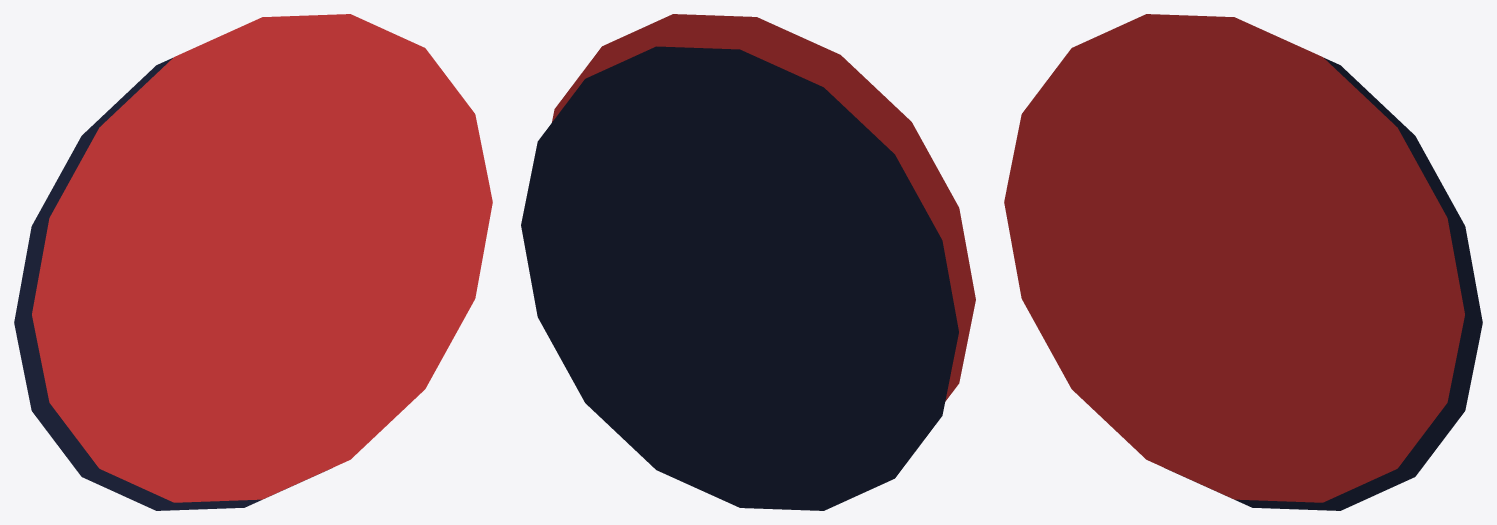
The model's file is spawn_red.glb.
3 renders of one model, left to right at view 1: azimuth 30°, elevation 25°; view 2: azimuth 150°, elevation 25°; view 3: azimuth 330°, elevation 25°, orthographic. The views are drawn at different scales.
Visible parts, largest first — view 1: spawn_point_red; view 2: spawn_point_red; view 3: spawn_point_red.
Part boxes in pixels (x1,y1,x2,y2): spawn_point_red: (14, 14, 492, 510); spawn_point_red: (521, 14, 975, 510); spawn_point_red: (1004, 14, 1482, 510).
Size of the model in its own units: 1.5 by 1.57 by 0.1.
Materials: 3 (3 with a texture image).
